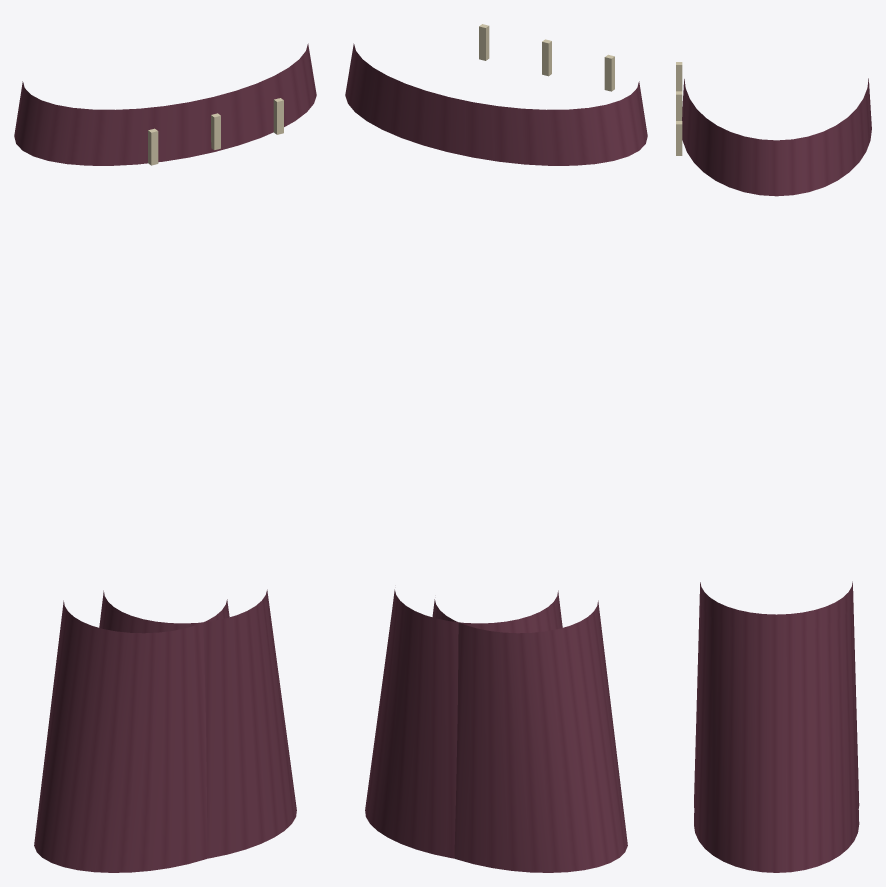
The model's file is pleated_skirt.gltf.
3 renders of one model, left to right at view 1: azimuth 30°, elevation 25°; view 2: azimuth 150°, elevation 25°; view 3: azimuth 270°, elevation 25°, orthographic. The views are drawn at different scales.
Parts seen in each view (by area): view 1: LegR, LegL, Waist; view 2: LegR, LegL, Waist; view 3: LegL, Waist, LegR.
Boxes of the visible parts, left/top/right/bottom form: LegR: left=34, top=599, right=229, bottom=872; LegL: left=99, top=589, right=296, bottom=858; Waist: left=14, top=43, right=316, bottom=165; LegR: left=432, top=599, right=627, bottom=872; LegL: left=365, top=589, right=562, bottom=858; Waist: left=345, top=24, right=647, bottom=165; LegL: left=694, top=600, right=859, bottom=872; Waist: left=676, top=62, right=871, bottom=196; LegR: left=694, top=581, right=859, bottom=808.
Size of the model in its own units: 0.5 by 1.28 by 0.308.
Materials: 2 (2 with a texture image).
